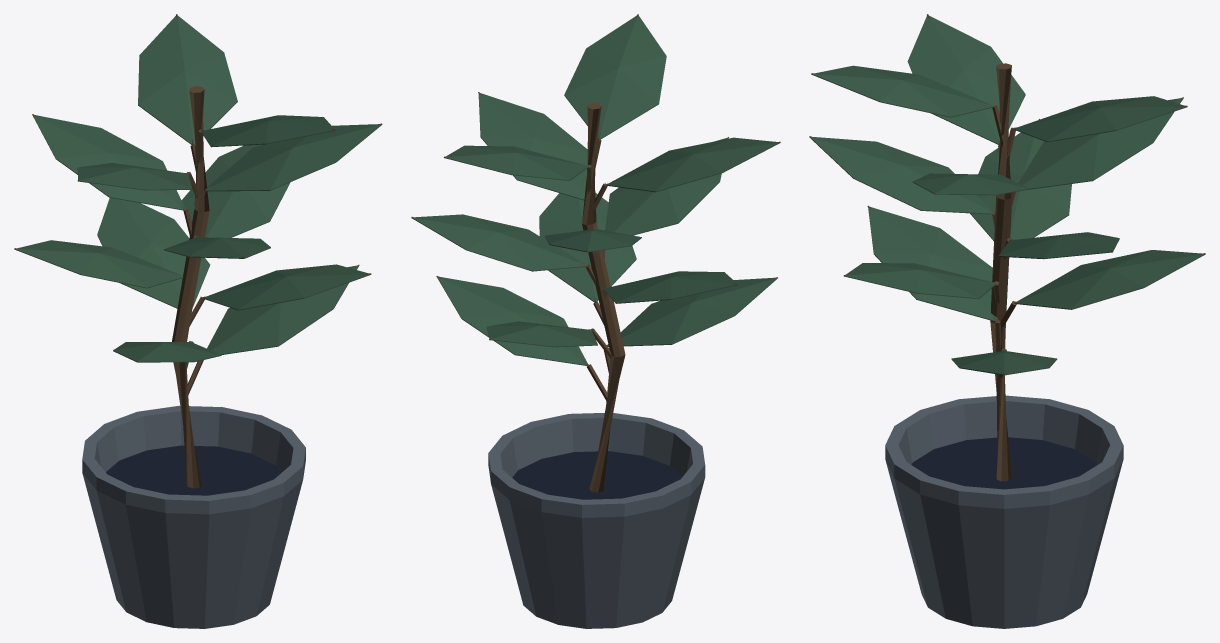
Rendered from res_ficus_planter.glb.
3 renders of one model, left to right at view 1: azimuth 30°, elevation 25°; view 2: azimuth 150°, elevation 25°; view 3: azimuth 270°, elevation 25°, orthographic. The views are drawn at different scales.
Parts seen in each view (by area): view 1: folded_ficus_leaf, concrete_planter, soil, ficus_trunk; view 2: folded_ficus_leaf, concrete_planter, soil, ficus_trunk; view 3: folded_ficus_leaf, concrete_planter, soil, ficus_trunk.
Boxes of the visible parts, x1,y1,x2,y2 form: folded_ficus_leaf: (15, 16, 381, 362); concrete_planter: (82, 405, 305, 628); soil: (106, 445, 280, 495); ficus_trunk: (14, 14, 382, 488); folded_ficus_leaf: (412, 15, 779, 365); concrete_planter: (488, 413, 705, 628); soil: (512, 451, 682, 499); ficus_trunk: (411, 14, 780, 492); folded_ficus_leaf: (810, 15, 1204, 375); concrete_planter: (885, 395, 1123, 628); soil: (911, 437, 1096, 489); ficus_trunk: (809, 14, 1205, 481).
Bounding box in the file's own units: 1.25 × 1.9 × 1.25.
